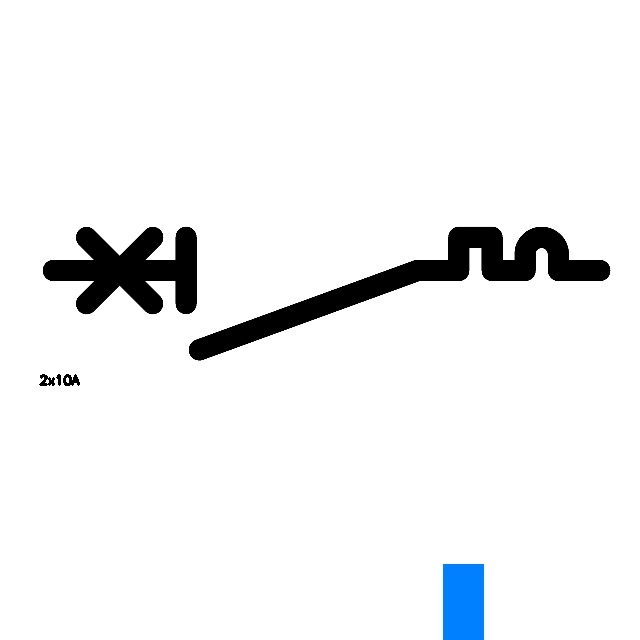interruptor_termomagnetico: (39, 223, 614, 364)
